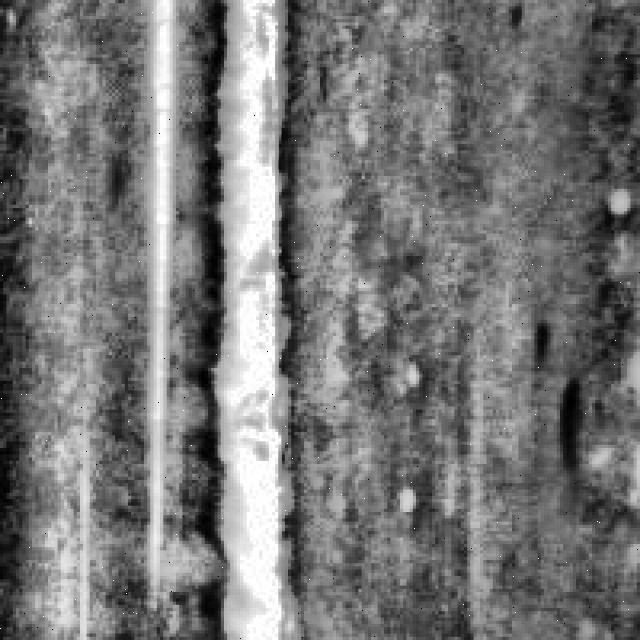Inclusion: (202, 0, 292, 637), (141, 0, 182, 586)
Patches: (547, 368, 589, 477)
